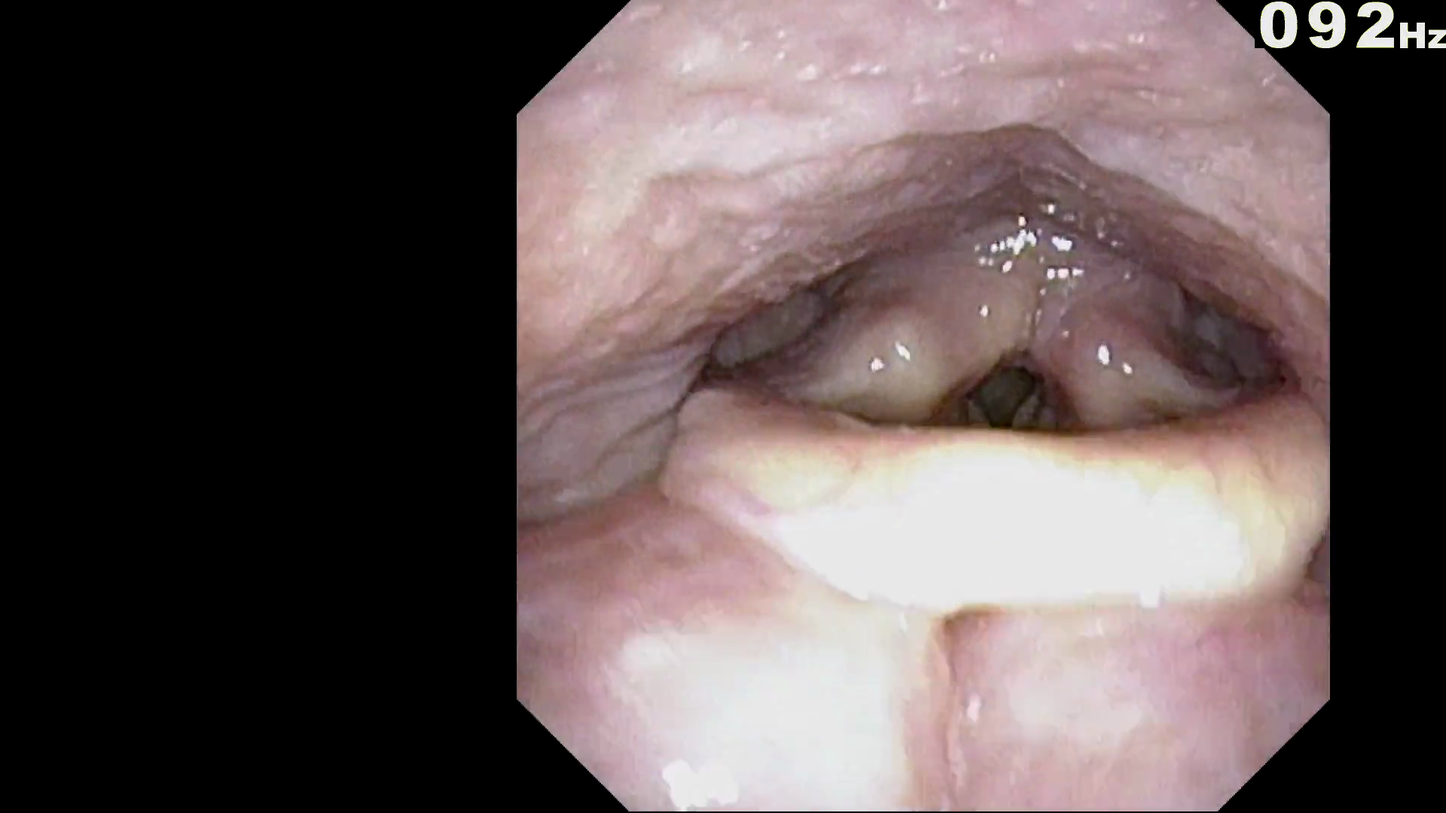epiglottis: (668, 335, 1319, 643)
trachea: (935, 281, 1093, 457)
